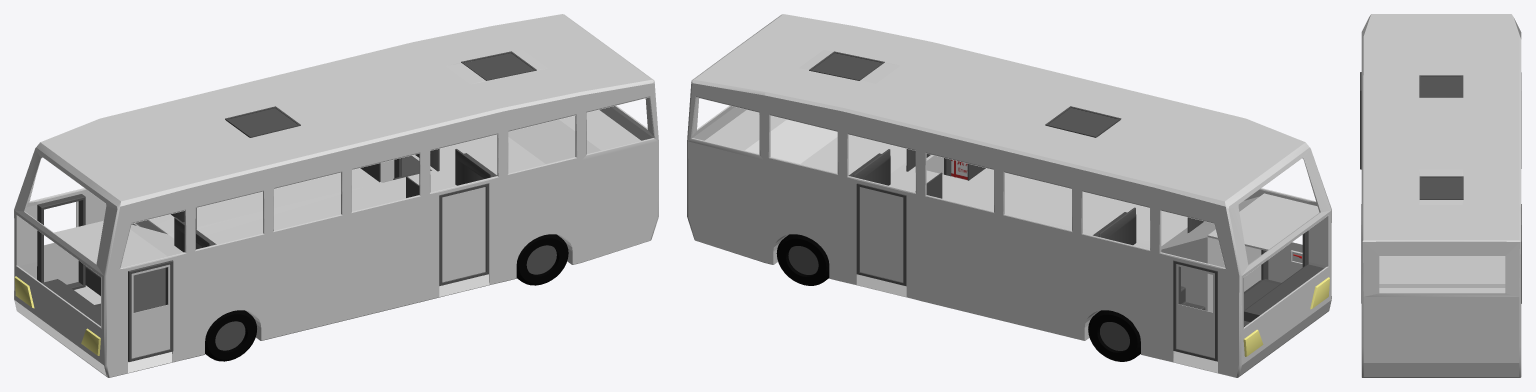
Rendered from New_bus_02.FBX.
3 views of the same model, side by side, from view 1: azimuth 30°, elevation 25°; view 2: azimuth 150°, elevation 25°; view 3: azimuth 270°, elevation 25° (orthographic). The views are drawn at different scales.
Visible parts, largest first — view 1: busbody, left_back_door, left_front_door, right_front_door, ex_gate001, ex_gate; view 2: busbody, right_back_door, right_front_door, left_front_door, ex_gate001, ex_gate; view 3: busbody, ex_gate, ex_gate001, exit_gate, exit_gate001, left_front_door.
Boxes of the visible parts, x1,y1,x2,y2 form: busbody: (14,14,658,377); left_back_door: (439,183,488,285); left_front_door: (128,260,173,361); right_front_door: (37,194,85,289); ex_gate001: (228,108,297,135); ex_gate: (464,53,533,78); busbody: (687,14,1331,377); right_back_door: (856,183,906,286); right_front_door: (1173,260,1217,361); left_front_door: (1261,230,1308,282); ex_gate001: (1048,108,1117,135); ex_gate: (812,53,881,79); busbody: (1361,14,1521,377); ex_gate: (1421,177,1461,198); ex_gate001: (1421,76,1461,96); exit_gate: (1419,176,1463,199); exit_gate001: (1419,75,1463,97); left_front_door: (1360,72,1361,169).
Bounding box in the file's own units: 4585 × 1490 × 1330.
